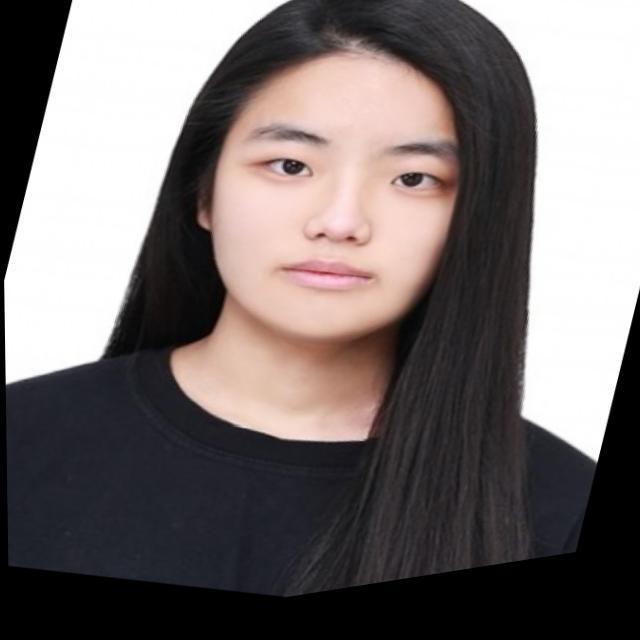Nonhelmet: (169, 0, 476, 351)
